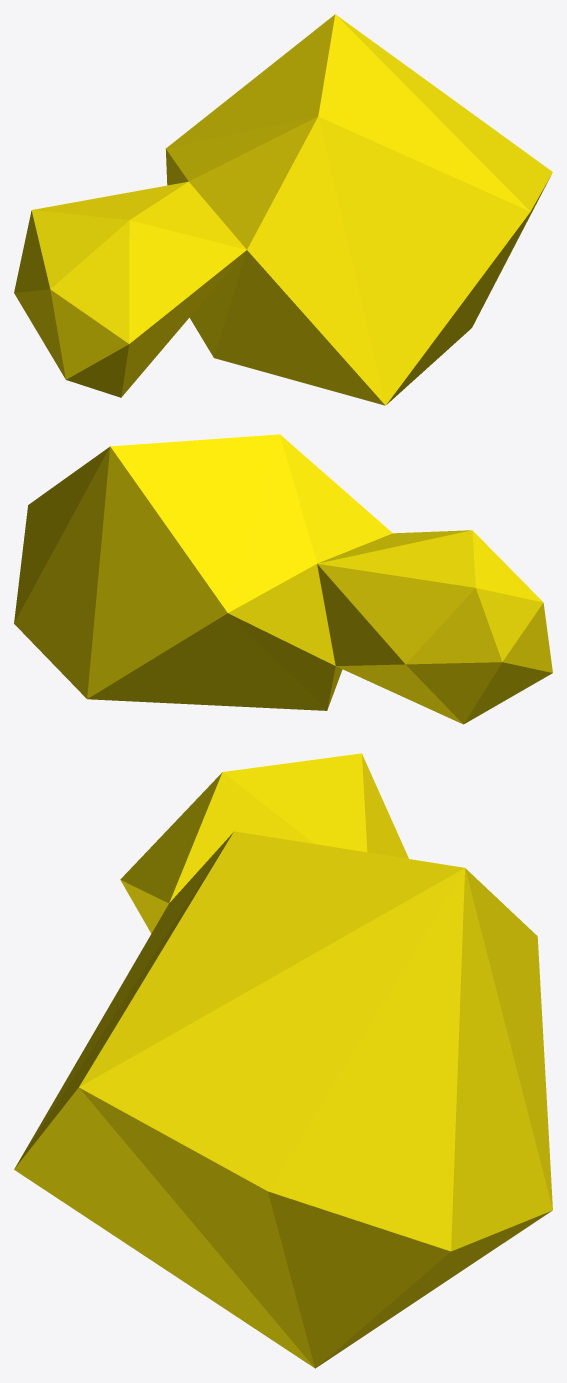
Rendered from fireflyLow3.obj.
3 views of the same model, one above another, from view 1: azimuth 30°, elevation 25°; view 2: azimuth 150°, elevation 25°; view 3: azimuth 270°, elevation 25° (orthographic). The views are drawn at different scales.
Visible parts, largest first — view 1: Icosphere; view 2: Icosphere; view 3: Icosphere.
Boxes of the visible parts, x1,y1,x2,y2 form: Icosphere: (14,14,552,405); Icosphere: (14,434,552,724); Icosphere: (14,753,552,1368).
Size of the model in its own units: 0.8368 by 0.4623 by 0.5145.
